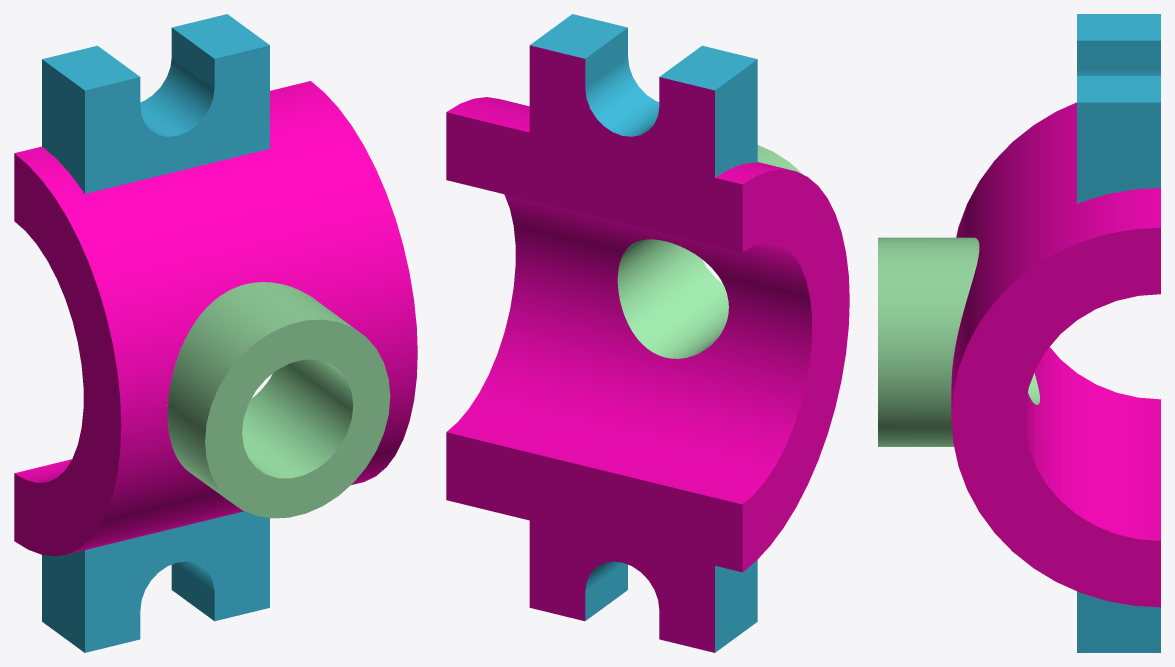
Rendered from model_plain.glb.
3 renders of one model, left to right at view 1: azimuth 30°, elevation 25°; view 2: azimuth 150°, elevation 25°; view 3: azimuth 270°, elevation 25°, orthographic. The views are drawn at different scales.
Visible parts, largest first — view 1: 组合体1.SLDPRT; view 2: 组合体1.SLDPRT; view 3: 组合体1.SLDPRT.
Boxes of the visible parts, x1,y1,x2,y2 form: 组合体1.SLDPRT: (14,14,417,652); 组合体1.SLDPRT: (446,14,849,652); 组合体1.SLDPRT: (878,14,1160,652).
Bounding box in the file's own units: 0.032 × 0.058 × 0.027.
